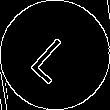L_NE: (27, 26, 83, 84)
